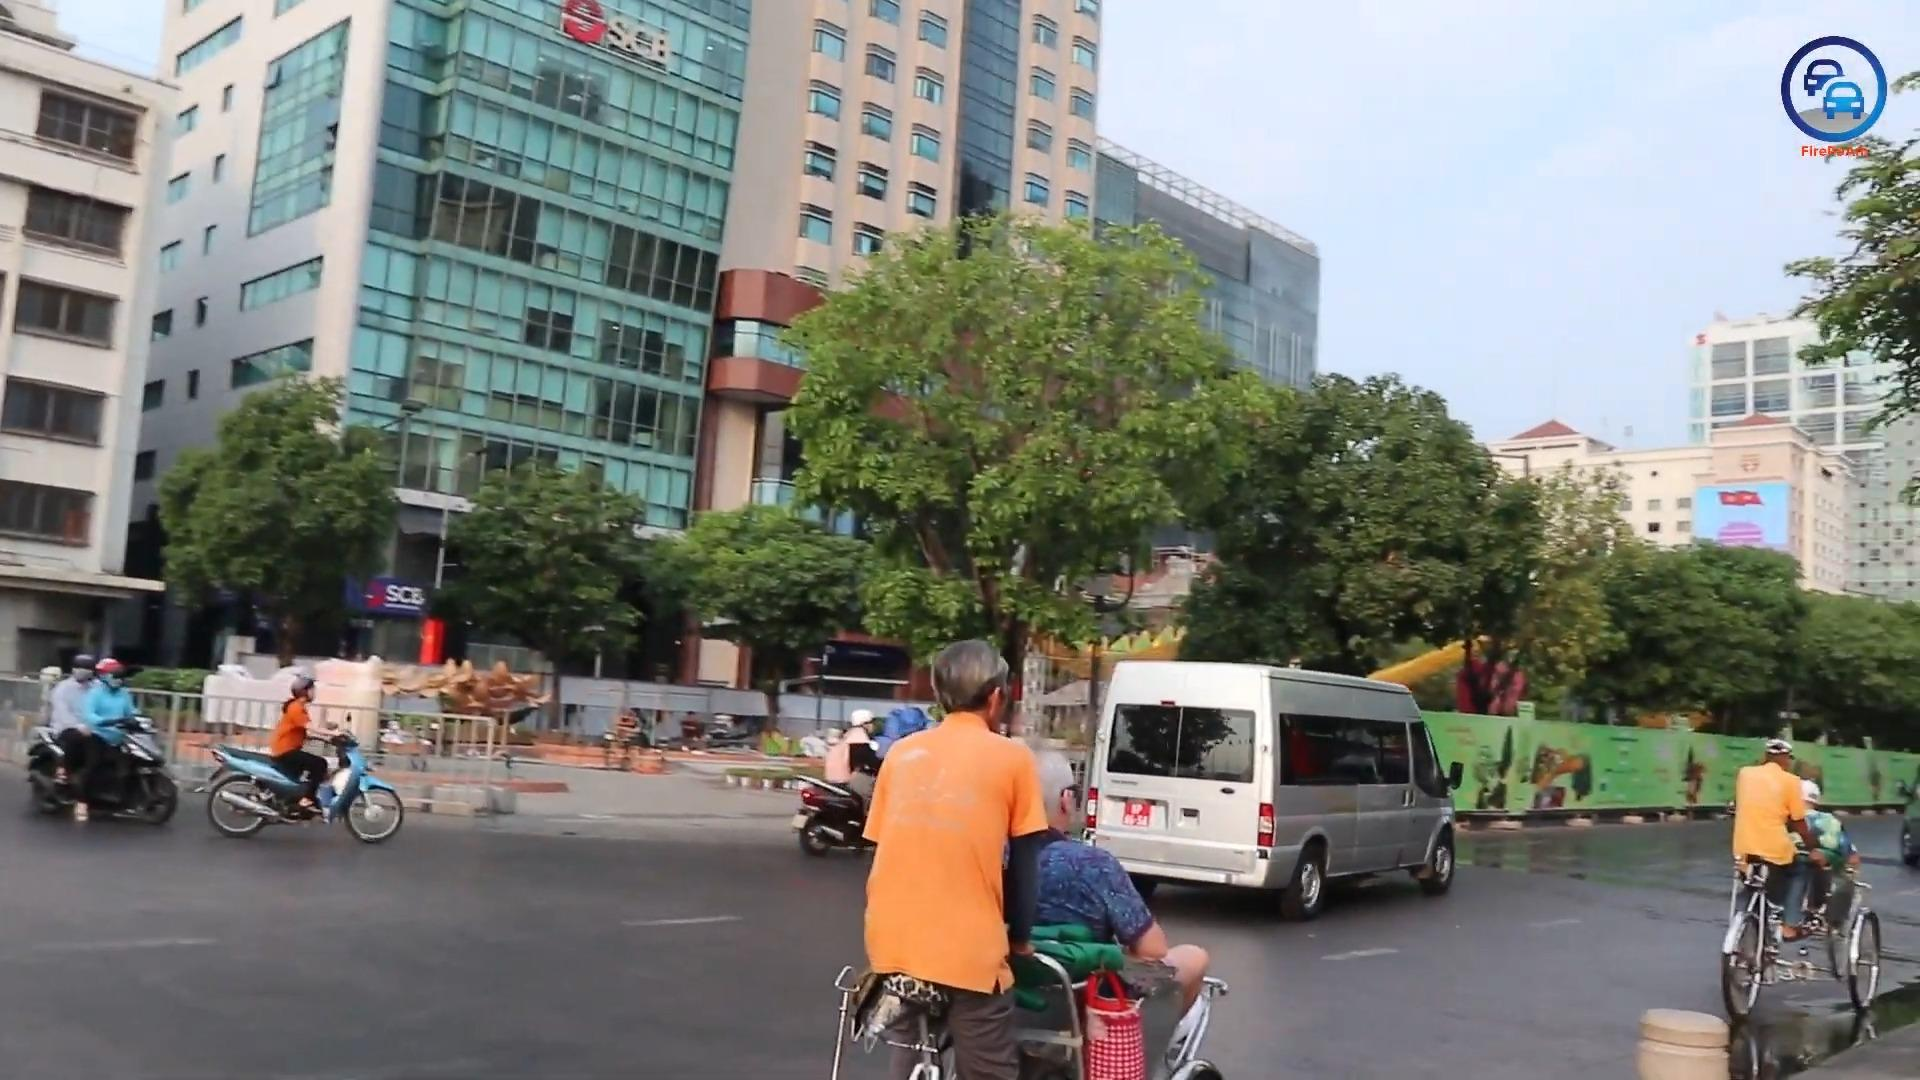bien_so: (1121, 795, 1151, 828)
